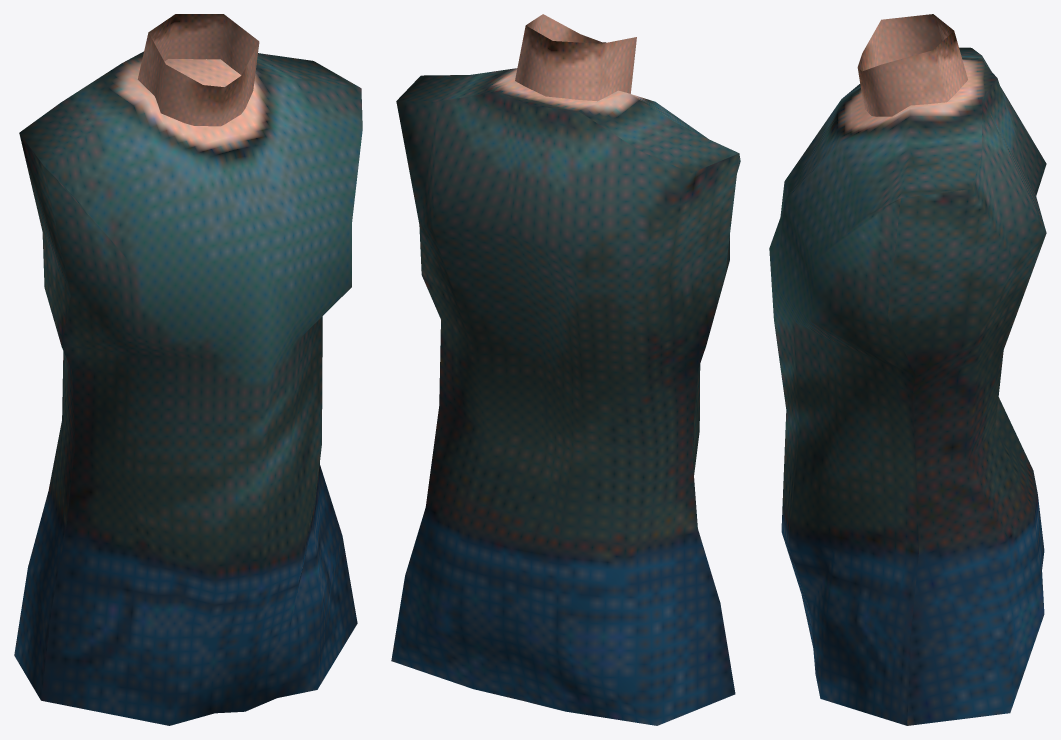
The model's file is man_torso.obj.
The picture shows the model from 3 angles, left to right: view 1: azimuth 30°, elevation 25°; view 2: azimuth 150°, elevation 25°; view 3: azimuth 270°, elevation 25°; orthographic projection. The views are drawn at different scales.
Parts seen in each view (by area): view 1: male_player.001; view 2: male_player.001; view 3: male_player.001.
Part boxes in pixels (bbox=[...]): male_player.001: bbox=[14, 14, 362, 725]; male_player.001: bbox=[391, 14, 740, 725]; male_player.001: bbox=[769, 14, 1046, 725].
Size of the model in its own units: 0.416 by 0.846 by 0.32.
Materials: 1 (1 with a texture image).
